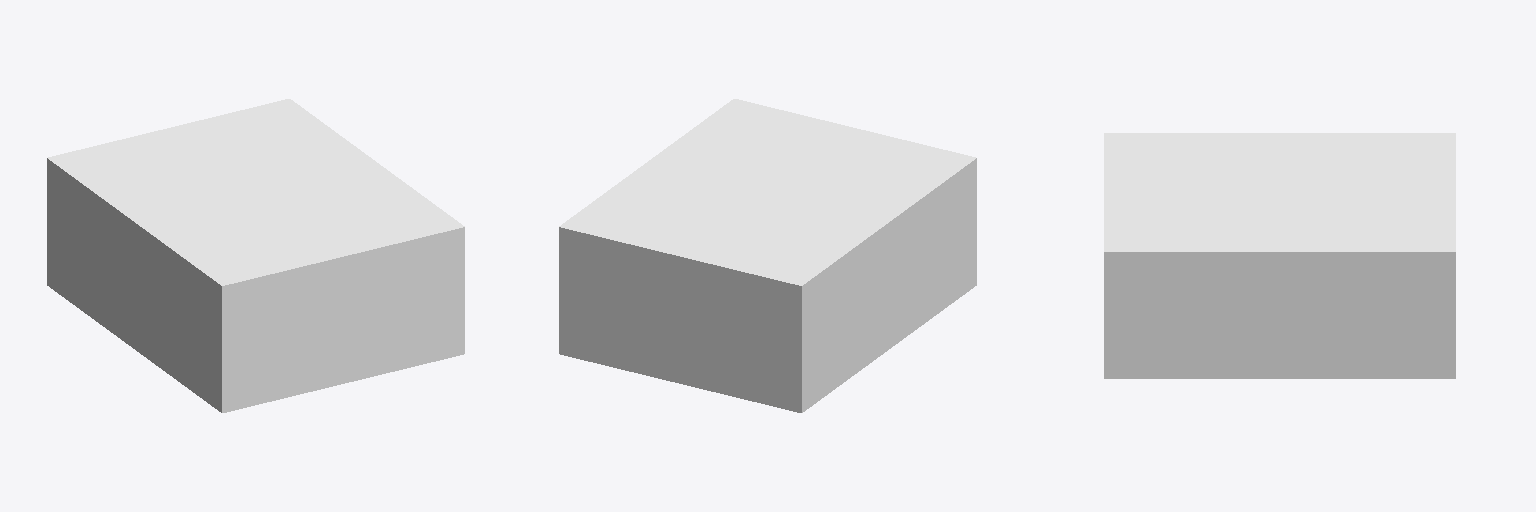
The model's file is SH_Enviorment-27-Crate_A.obj.
The picture shows the model from 3 angles: view 1: azimuth 30°, elevation 25°; view 2: azimuth 150°, elevation 25°; view 3: azimuth 270°, elevation 25°; orthographic projection.
Visible parts, largest first — view 1: Crate_A; view 2: Crate_A; view 3: Crate_A.
Boxes of the visible parts, <box> form: Crate_A: <box>47,99,464,412</box>; Crate_A: <box>559,99,976,412</box>; Crate_A: <box>1104,133,1455,378</box>.
Size of the model in its own units: 0.4 by 0.2 by 0.5.